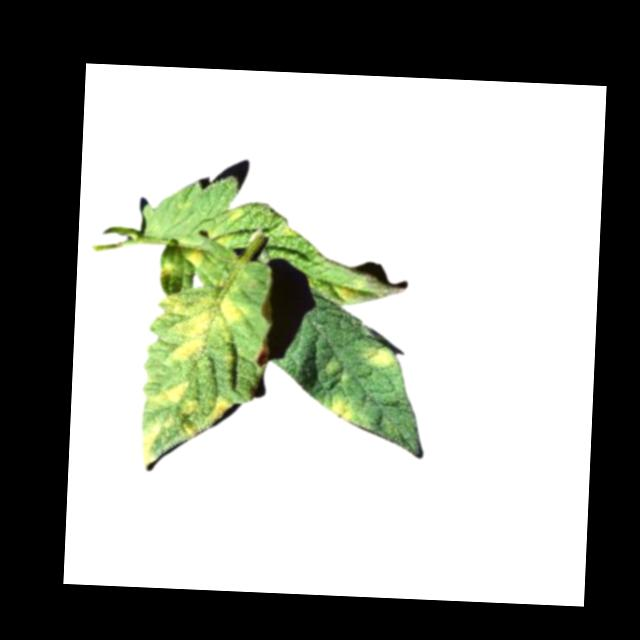Leaf_Mold: (157, 289, 247, 365), (138, 415, 200, 469), (144, 378, 199, 416), (332, 274, 369, 305), (327, 392, 357, 425), (362, 345, 398, 370), (207, 397, 232, 425), (183, 245, 208, 269), (158, 261, 172, 282)
